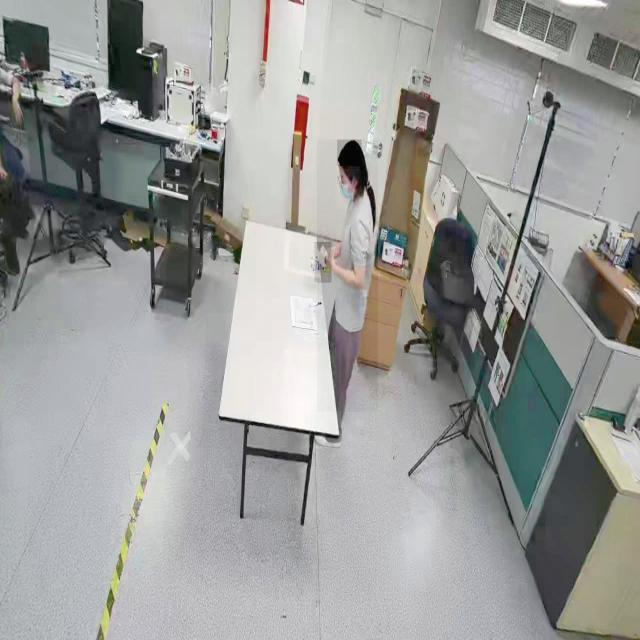face_mask: (338, 169, 360, 211)
hand_glove: (314, 242, 332, 282)
head_nohelmet: (337, 140, 362, 167)
person: (317, 140, 379, 412)
